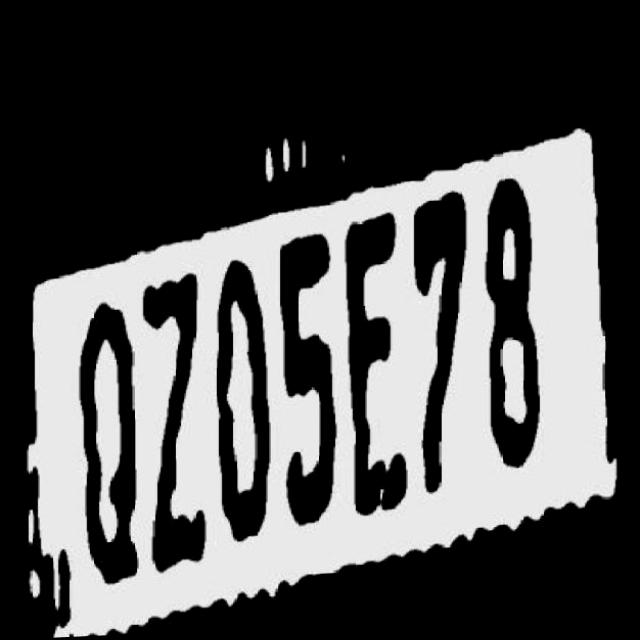5: (277, 224, 345, 539)
7: (404, 191, 479, 501)
8: (478, 182, 552, 482)
e: (335, 218, 417, 521)
o: (210, 241, 283, 553)
q: (71, 296, 140, 590)
z: (141, 242, 215, 569)
